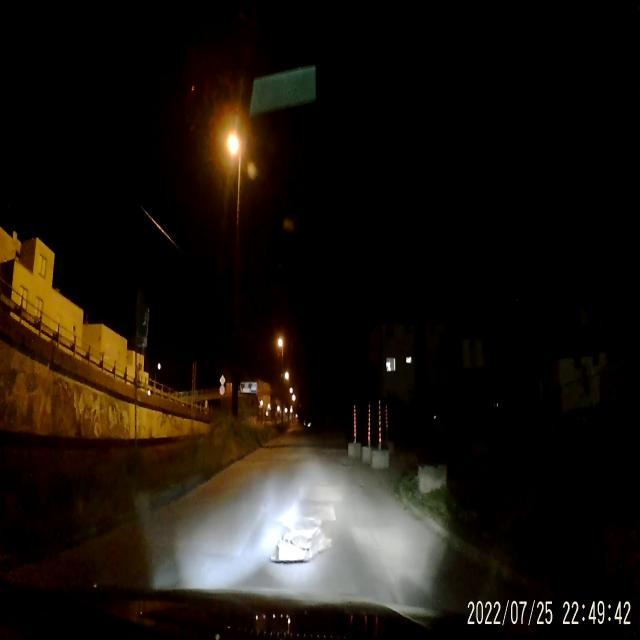Pothole: (272, 526, 331, 568)
